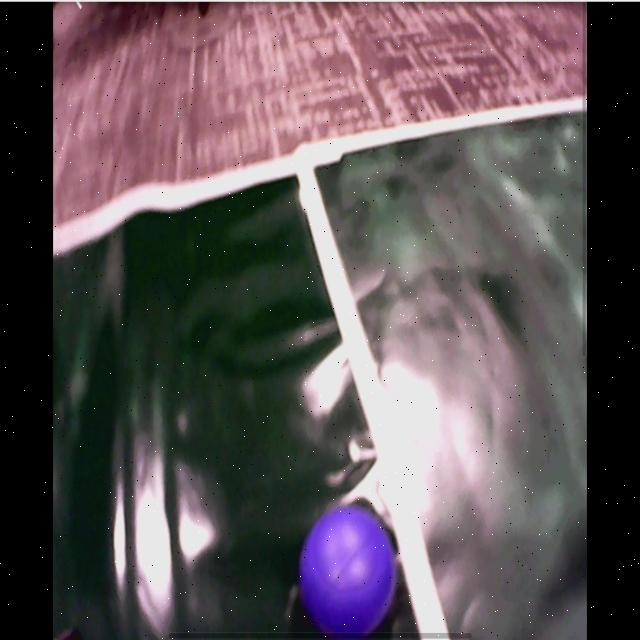ball: (301, 511, 397, 634)
